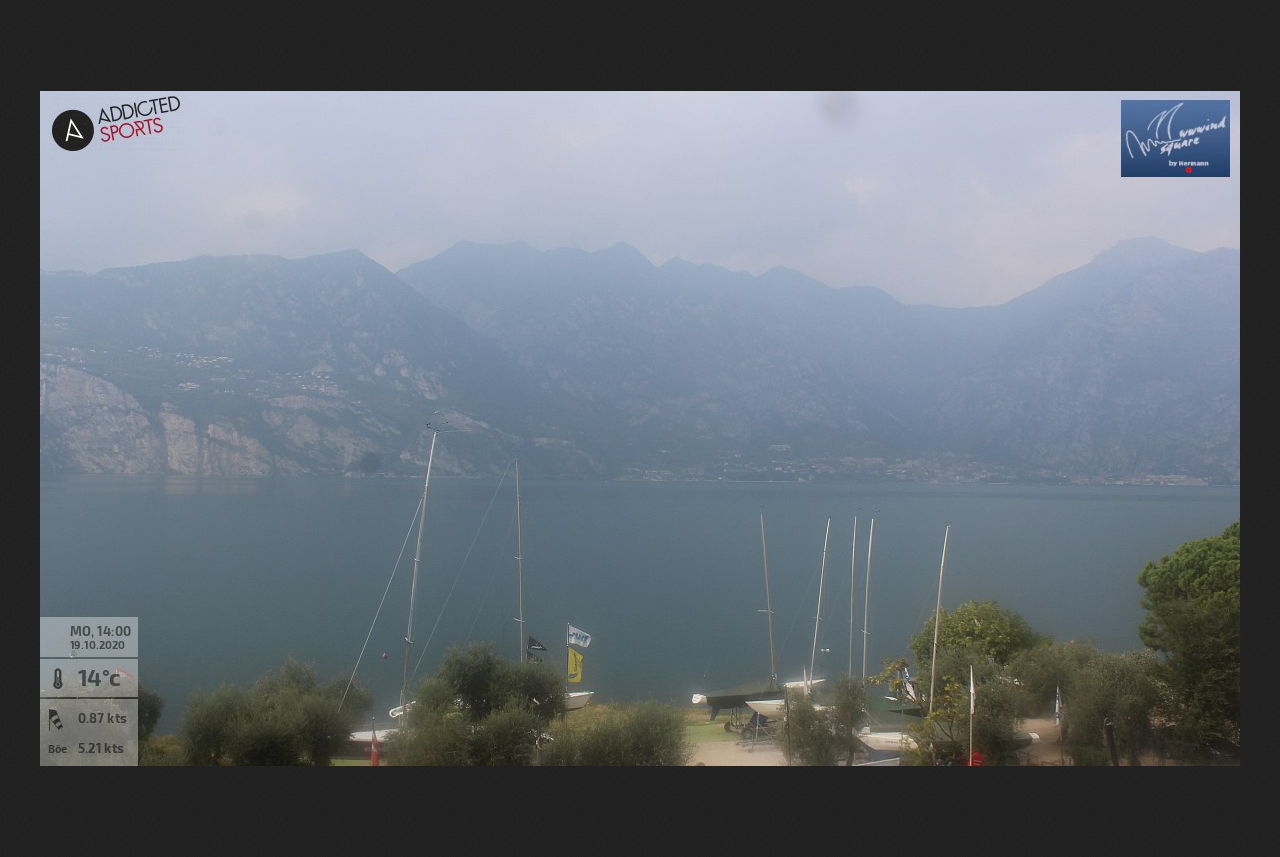maybe: (564, 620, 595, 651), (564, 645, 586, 686), (525, 631, 549, 653)
no: (963, 659, 983, 724)
